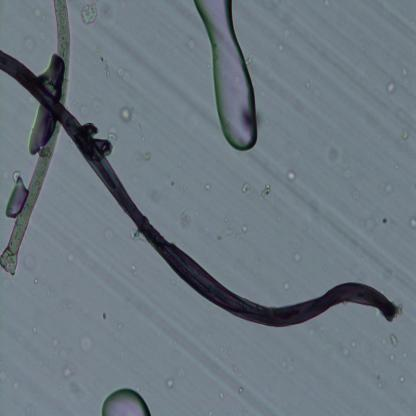Air bubble: (192, 0, 258, 153), (100, 385, 153, 415)
Background material: (89, 43, 133, 84), (57, 356, 84, 392), (126, 142, 157, 172), (360, 206, 391, 235), (11, 28, 40, 56), (221, 215, 250, 242), (317, 142, 343, 168), (299, 72, 322, 101), (172, 202, 193, 233), (371, 173, 395, 197), (276, 28, 292, 57), (80, 330, 96, 355), (336, 337, 357, 356), (81, 2, 98, 25), (121, 106, 138, 126), (102, 223, 118, 244), (275, 274, 293, 292), (171, 359, 188, 377), (125, 262, 141, 281), (22, 254, 38, 273), (259, 182, 272, 203), (233, 362, 247, 380), (240, 178, 253, 196), (398, 123, 408, 144), (291, 244, 302, 262), (386, 80, 397, 96), (285, 168, 297, 182), (407, 212, 416, 230), (388, 332, 398, 347), (49, 334, 60, 346), (397, 369, 406, 383), (236, 384, 246, 394), (203, 182, 211, 194), (32, 276, 39, 289), (13, 382, 20, 395), (166, 378, 175, 388), (386, 354, 394, 362), (218, 392, 226, 400)
Cotton: (0, 51, 400, 329)
Microfibre: (0, 0, 71, 278)
